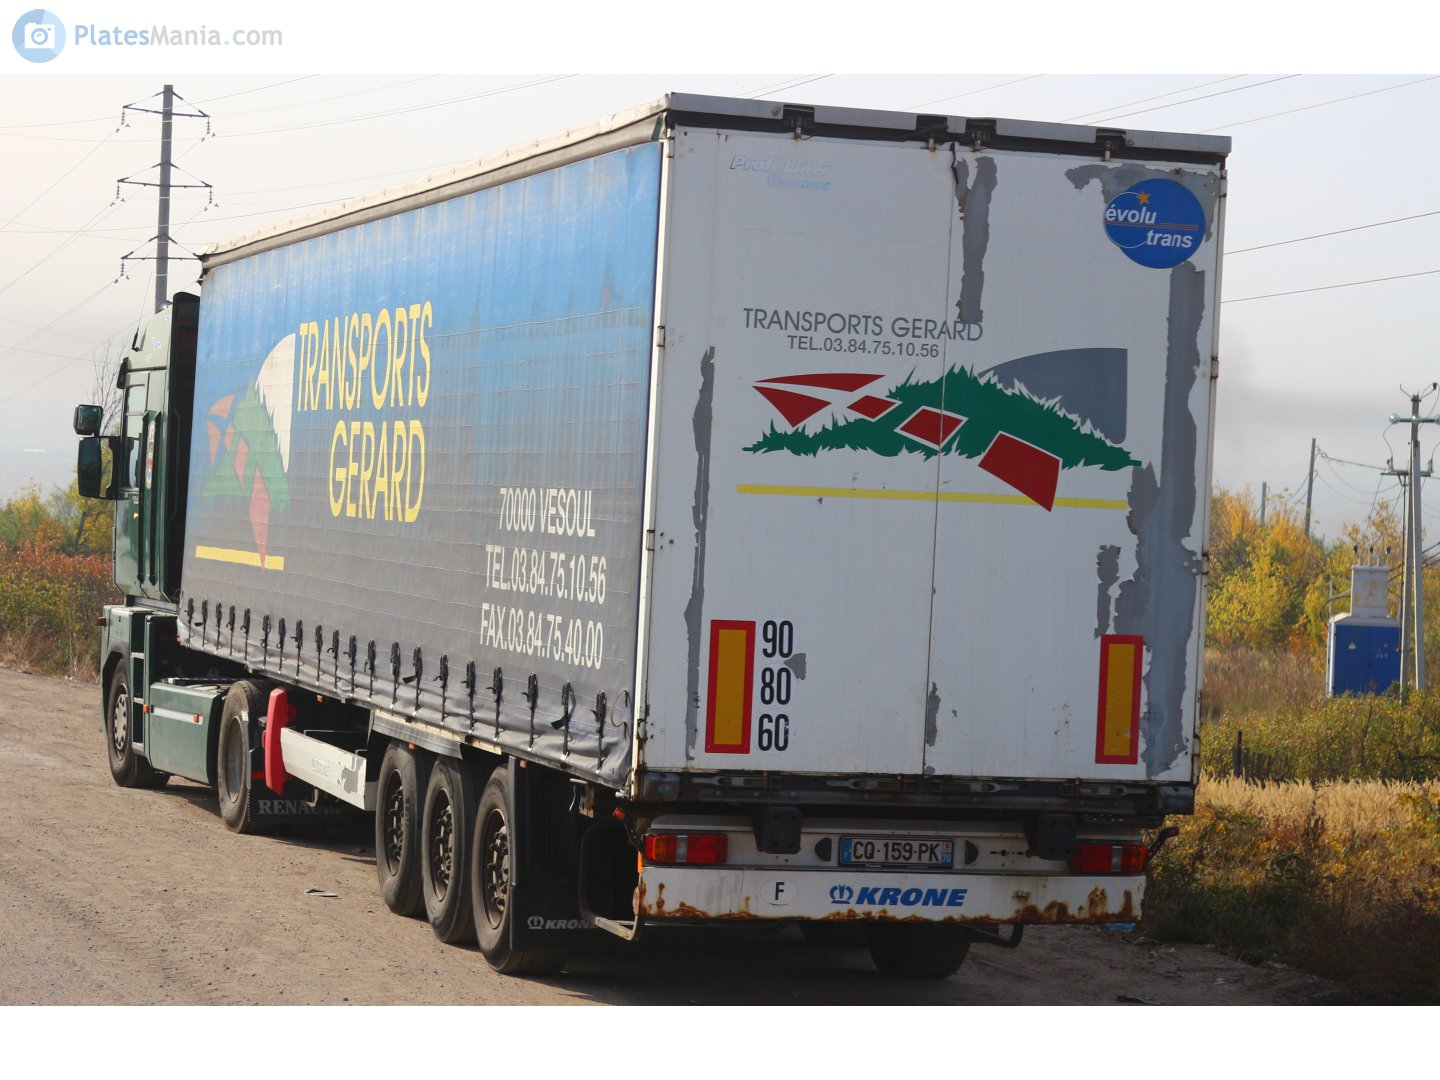licence plate: (834, 832, 957, 872)
